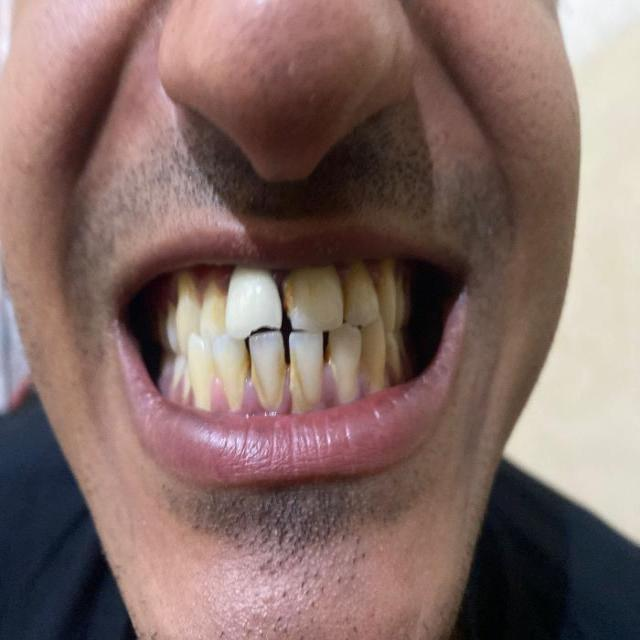CALCULUS: (369, 266, 393, 304), (280, 274, 301, 315), (335, 276, 357, 314), (280, 340, 291, 380)
